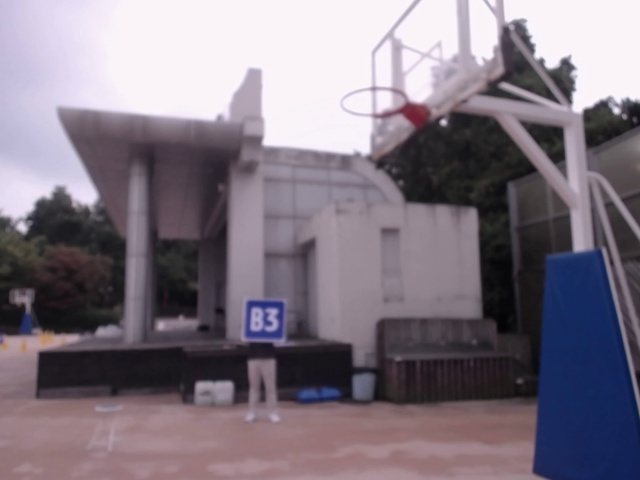delivery_b3: (243, 298, 287, 342)
